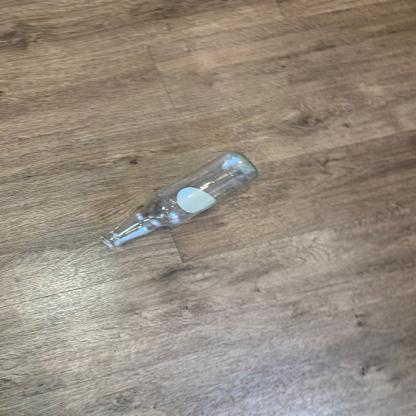trash: (96, 150, 262, 250)
